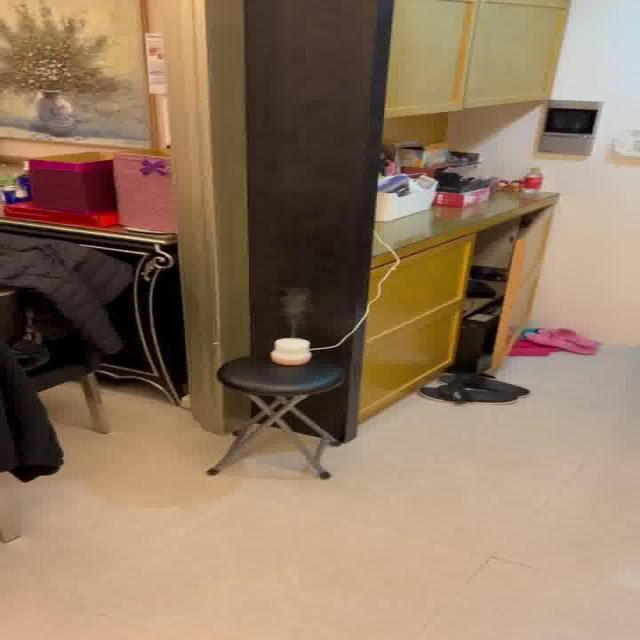fire: (265, 282, 321, 332)
